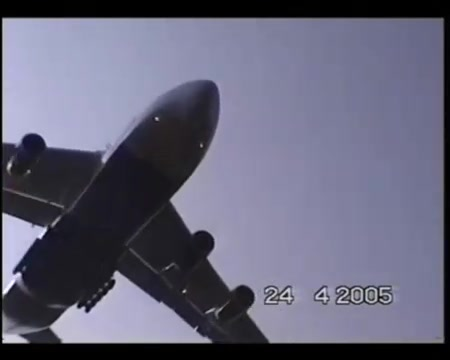aeroplane: (2, 76, 272, 346)
